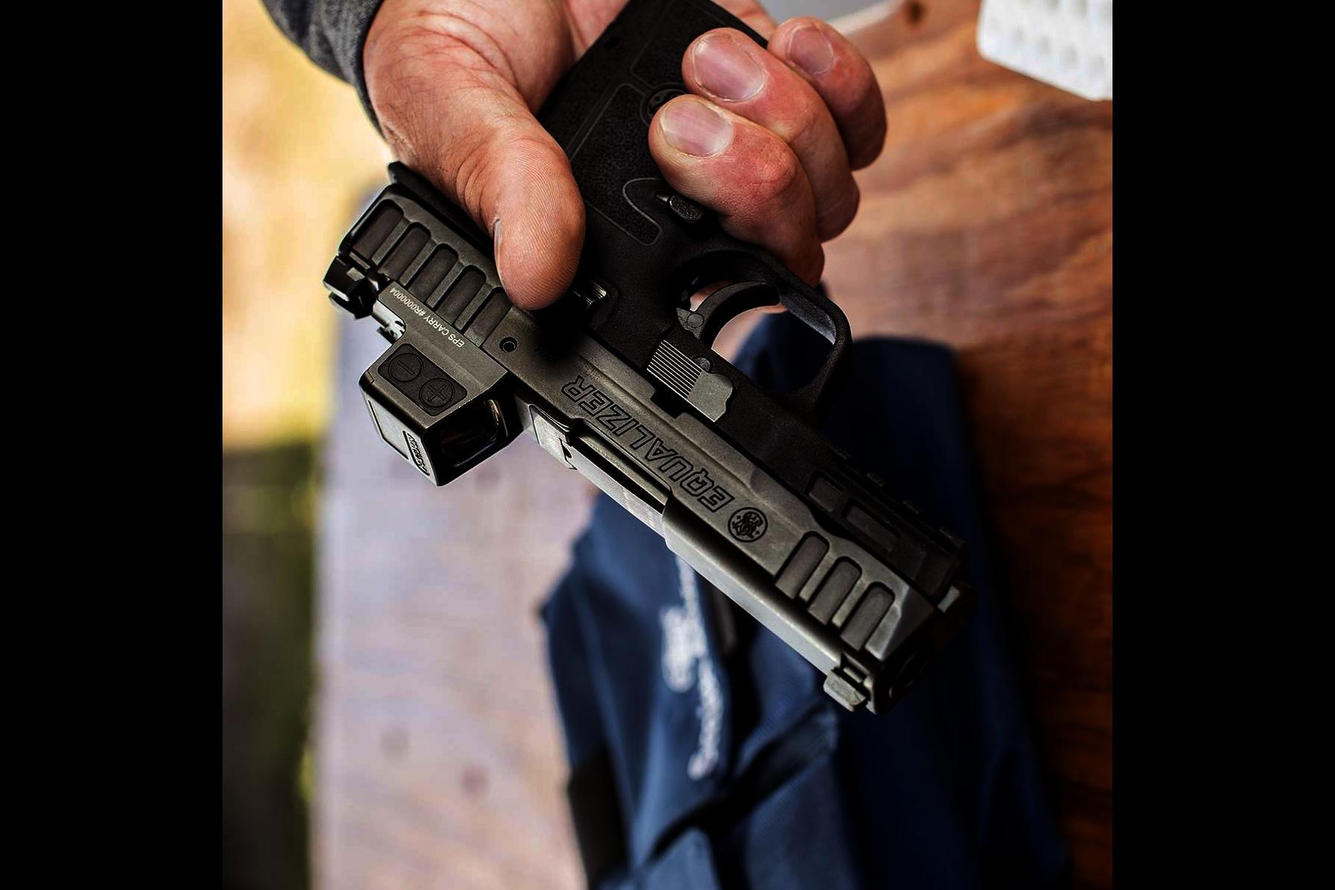gun: (320, 0, 975, 720)
